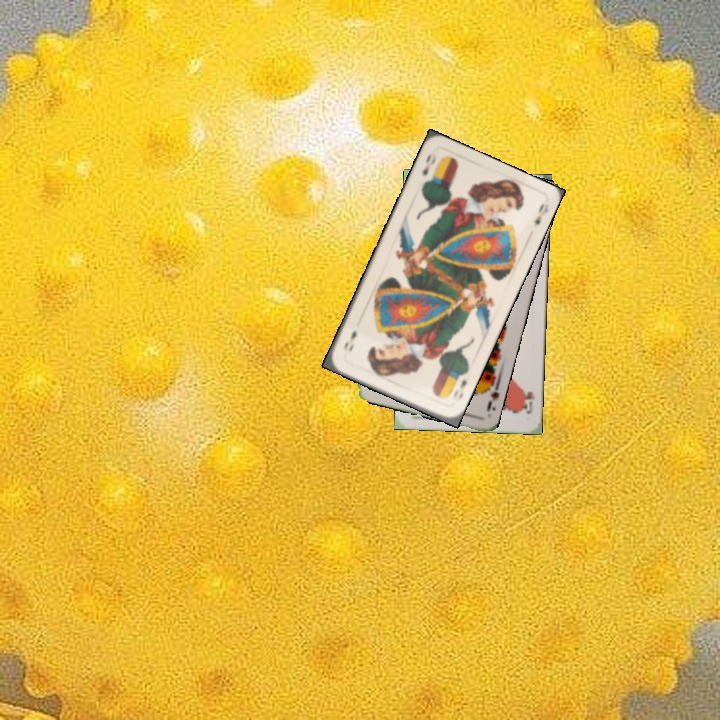EO: (418, 148, 439, 179), (449, 374, 470, 402)
HO: (518, 385, 537, 416)
S9: (481, 376, 503, 414)
